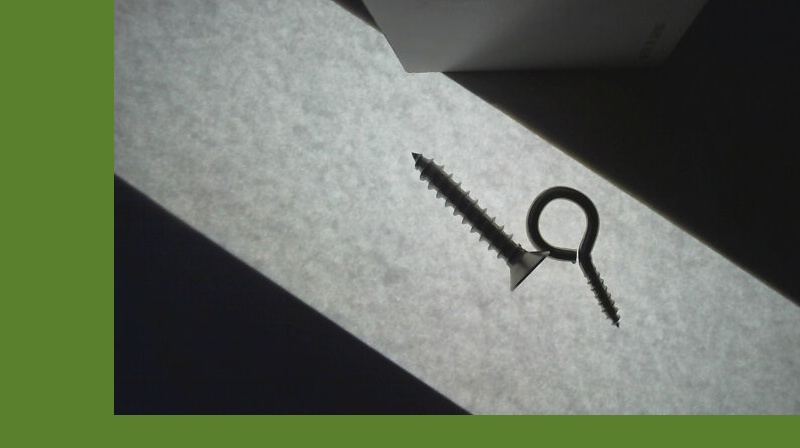O001: (522, 181, 622, 331)
S001: (406, 152, 546, 289)
